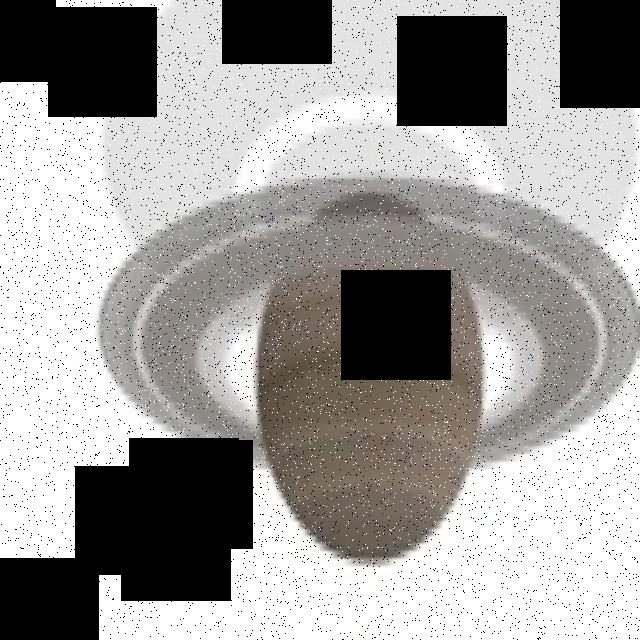Saturn: (96, 179, 640, 574)
